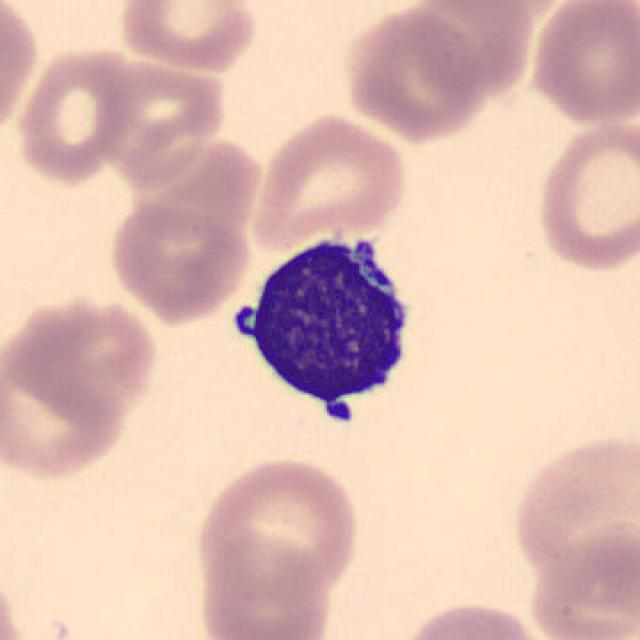lymphocyte: (243, 238, 411, 413)
rbc: (252, 111, 403, 246), (194, 449, 350, 578), (518, 437, 640, 588), (341, 18, 489, 139), (3, 336, 127, 478), (106, 208, 244, 324), (200, 524, 337, 640), (93, 61, 225, 177), (521, 0, 639, 124), (23, 50, 130, 183), (542, 131, 638, 270), (11, 301, 143, 401), (524, 530, 640, 636), (140, 142, 250, 253), (419, 2, 533, 94), (116, 0, 246, 68), (0, 2, 41, 131), (410, 601, 528, 640)
